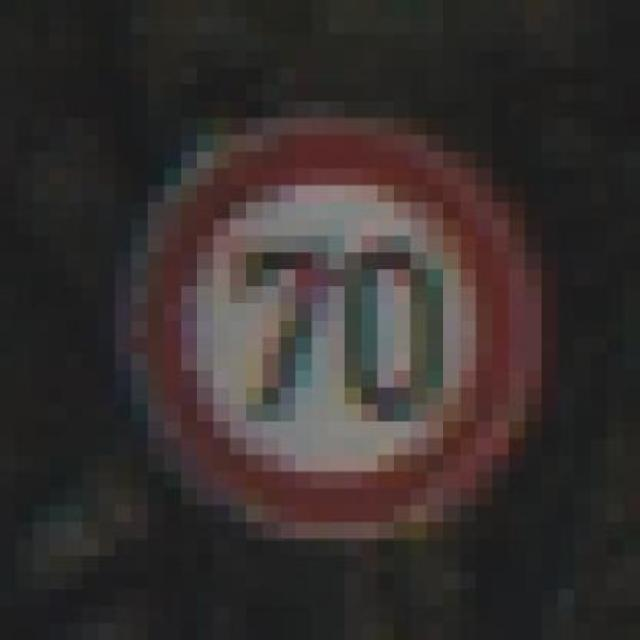forb_speed_over_70: (140, 123, 532, 539)
